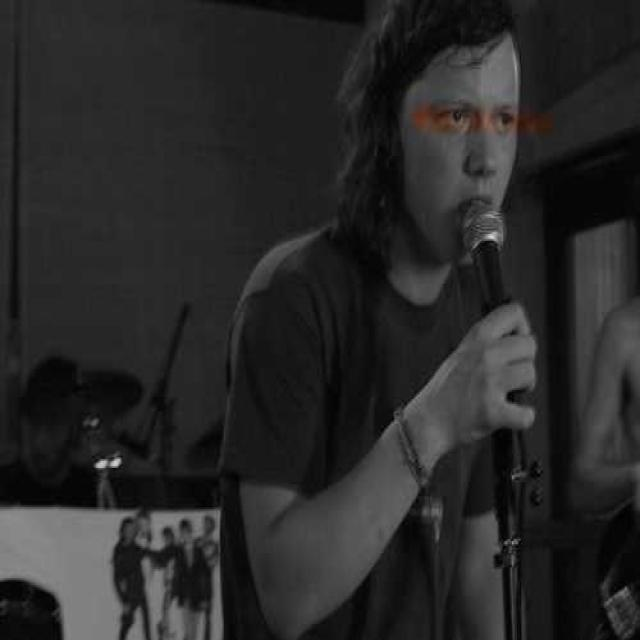microphone: (463, 196, 530, 497), (104, 352, 160, 478)
